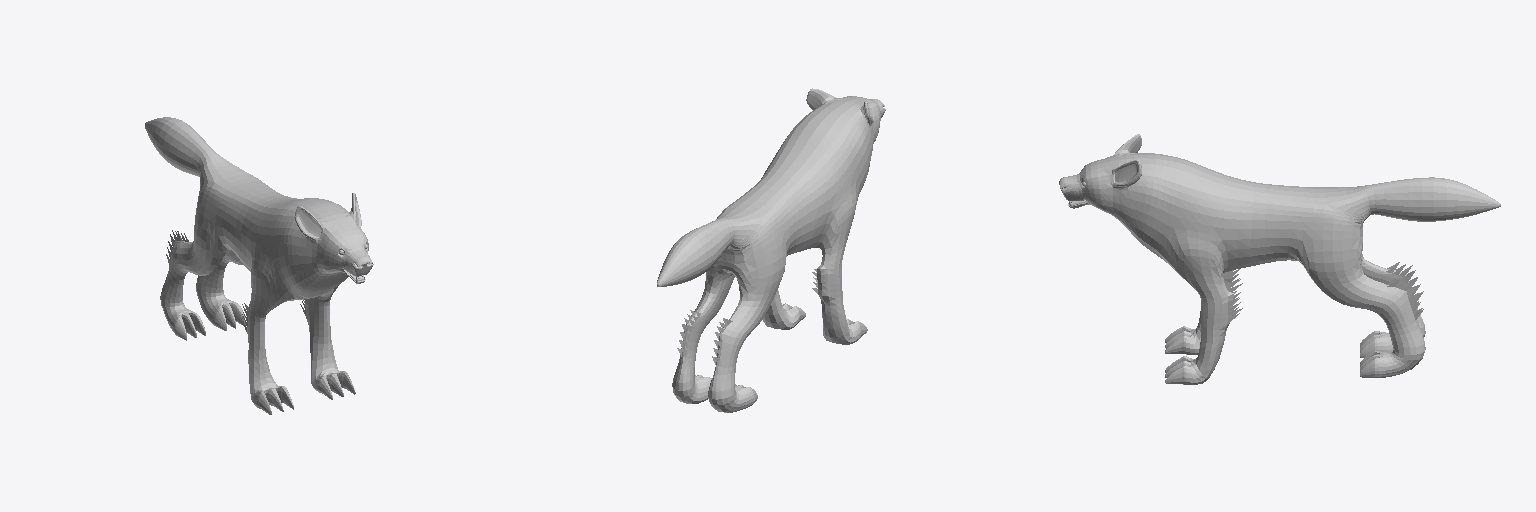
File: Wolf.obj
3 renders of one model, left to right at view 1: azimuth 30°, elevation 25°; view 2: azimuth 150°, elevation 25°; view 3: azimuth 270°, elevation 25°, orthographic.
Visible parts, largest first — view 1: Eyes_Cube.009; view 2: Eyes_Cube.009; view 3: Eyes_Cube.009.
Part boxes in pixels (left/top/right/bottom): Eyes_Cube.009: left=145, top=117, right=373, bottom=414; Eyes_Cube.009: left=657, top=88, right=885, bottom=412; Eyes_Cube.009: left=1059, top=134, right=1500, bottom=384.
Bounding box in the file's own units: 1.2 × 2.74 × 5.03.